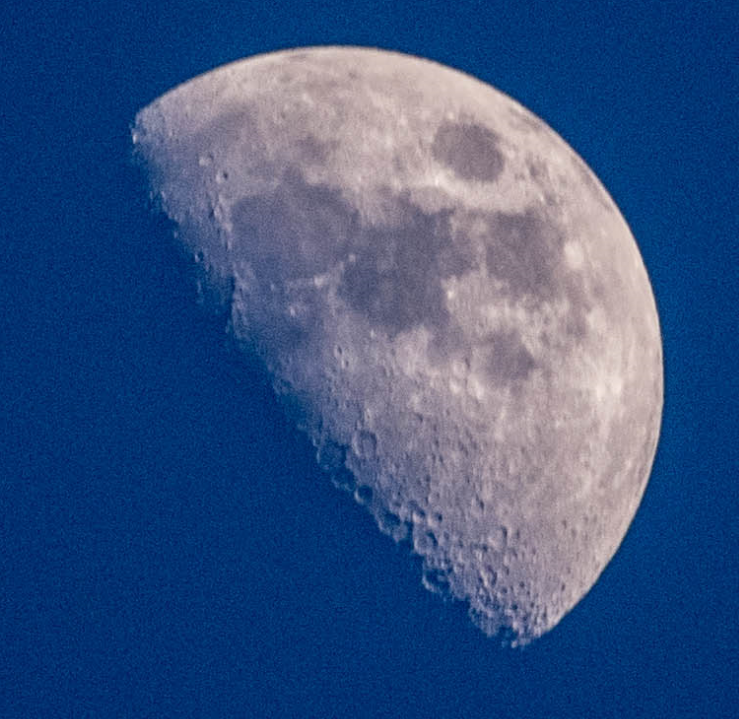crater: (226, 171, 365, 291), (404, 104, 526, 194), (349, 414, 395, 465), (311, 433, 351, 475), (557, 229, 589, 281), (606, 359, 634, 404), (193, 145, 218, 165), (551, 511, 570, 537), (326, 337, 347, 360)
